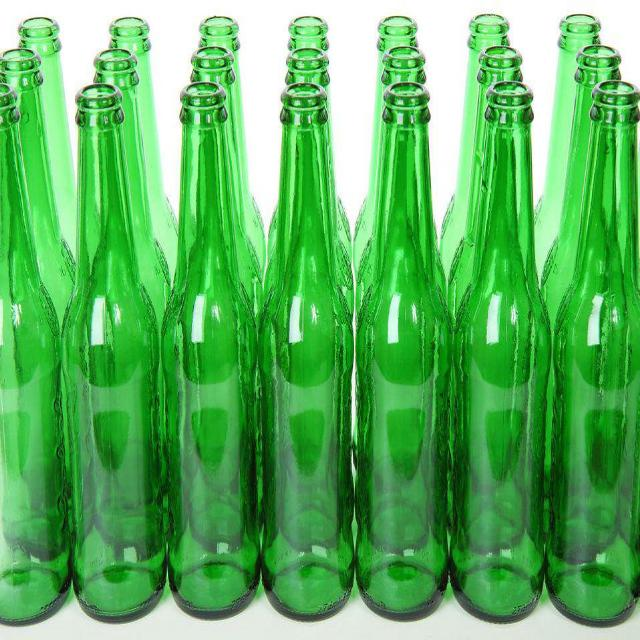non-organic waste: (162, 76, 266, 617)
